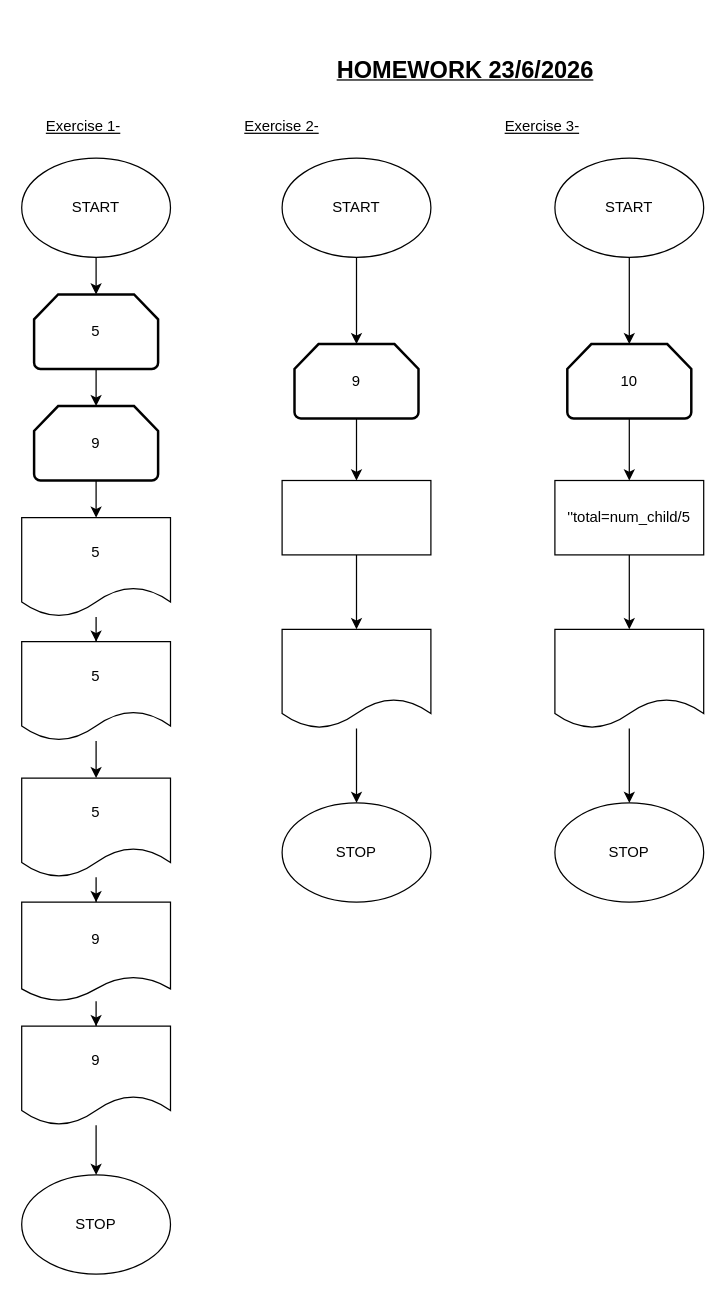
Some shapes in this 725 by 1296 pixel diagram are drawn without their labels. The shapes that lost their labels are listed below. From the top down, each one's box as (x1, y1, x2, y2) in pixels, then its label:
(281, 479, 431, 555): ''square=9*9=81''
(281, 628, 431, 728): ''square''
(554, 628, 704, 728): ''total''
